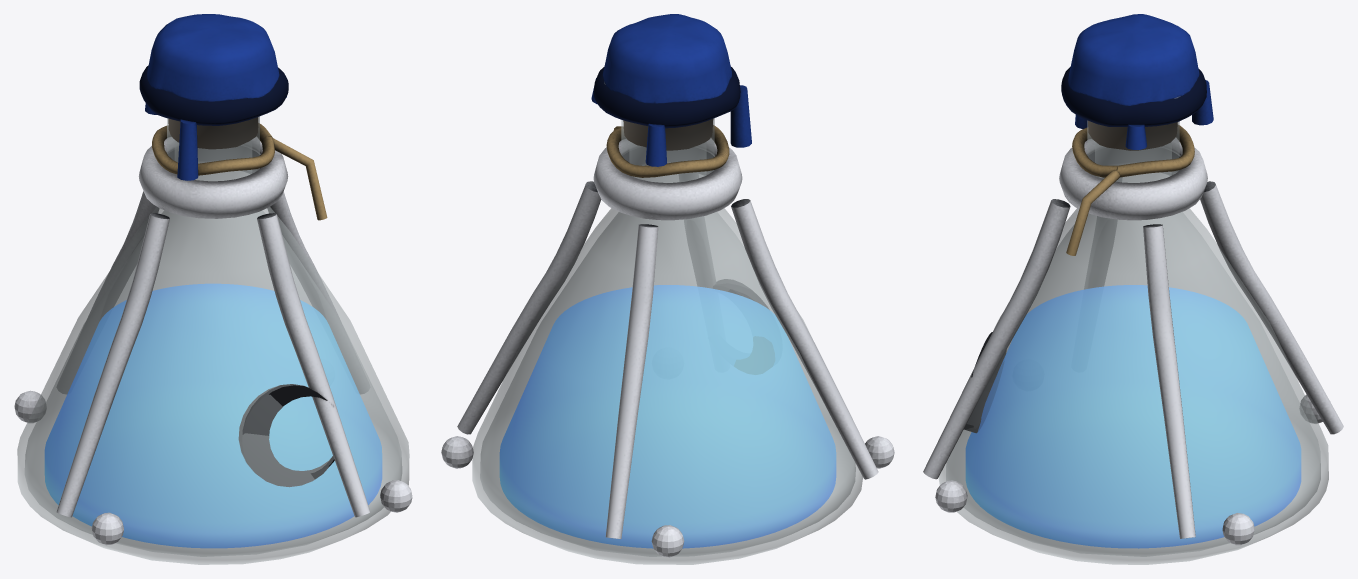
The model's file is item_pocao_mana_v2.glb.
3 renders of one model, left to right at view 1: azimuth 30°, elevation 25°; view 2: azimuth 150°, elevation 25°; view 3: azimuth 270°, elevation 25°, orthographic.
Visible parts, largest first — view 1: frasco, liquido, item_pocao_mana; view 2: frasco, liquido, item_pocao_mana; view 3: frasco, liquido, item_pocao_mana.
Boxes of the visible parts, <box> form: frasco: <box>17,116,409,564</box>; liquido: <box>45,284,381,547</box>; item_pocao_mana: <box>14,14,412,545</box>; frasco: <box>472,82,862,564</box>; liquido: <box>500,285,835,548</box>; item_pocao_mana: <box>441,14,894,557</box>; frasco: <box>938,96,1328,564</box>; liquido: <box>966,285,1300,548</box>; item_pocao_mana: <box>923,14,1343,545</box>.
Size of the model in its own units: 0.1642 by 0.2 by 0.1642.
3 materials, 1 textured.
